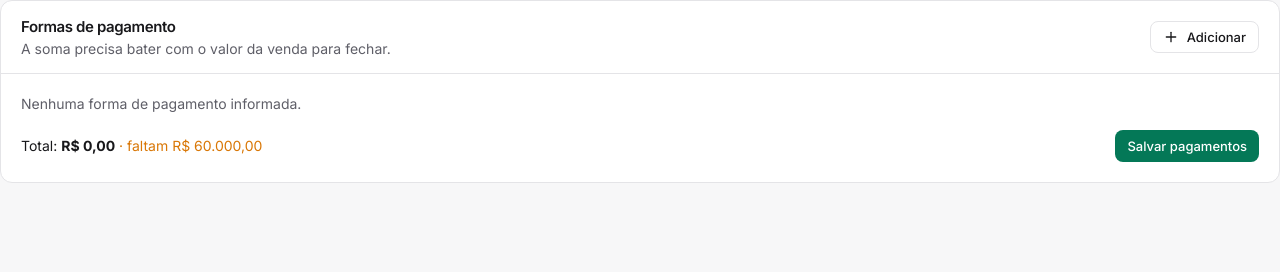
Test case: rascunhos permanecem ao atualizar dados do servidor › pagamentos preservam a linha não salva após atualização da venda
The width and height of the screenshot is (1280, 272).
Click the button "Adicionar" at (1204, 37), box [1150, 21, 1259, 53]
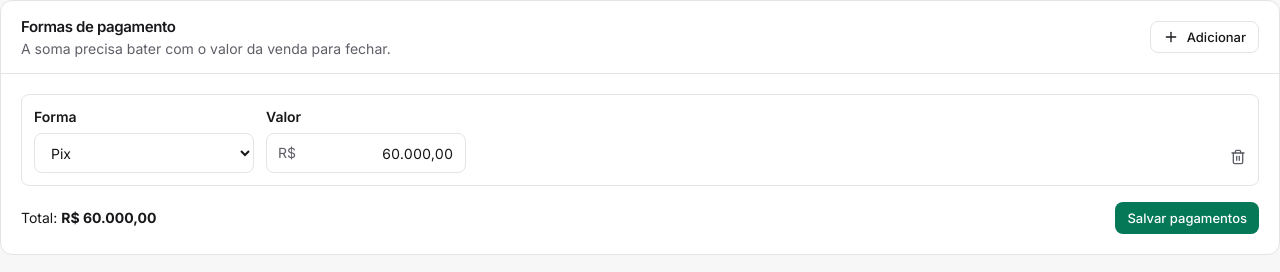
expect the number of buttons named "Remover forma de pagamento" is 1: met, box [1230, 149, 1246, 165]
